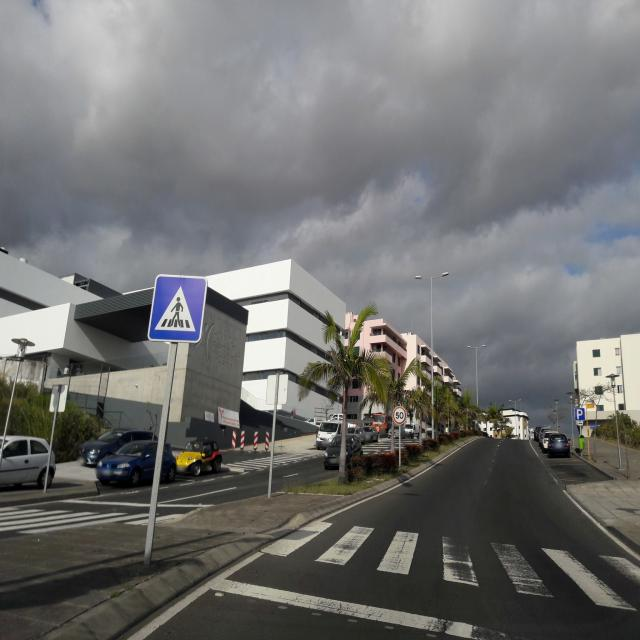car: (96, 440, 177, 486), (0, 435, 56, 493), (82, 430, 155, 468), (174, 441, 222, 476), (324, 434, 364, 469), (316, 420, 348, 450), (546, 432, 571, 458), (347, 426, 365, 445), (540, 431, 556, 451), (362, 424, 378, 444), (402, 422, 419, 440)
